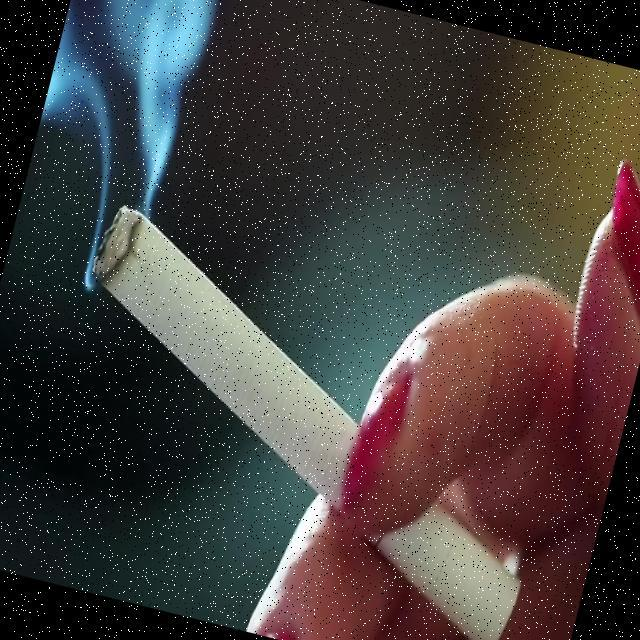cigarette: (42, 175, 402, 515)
